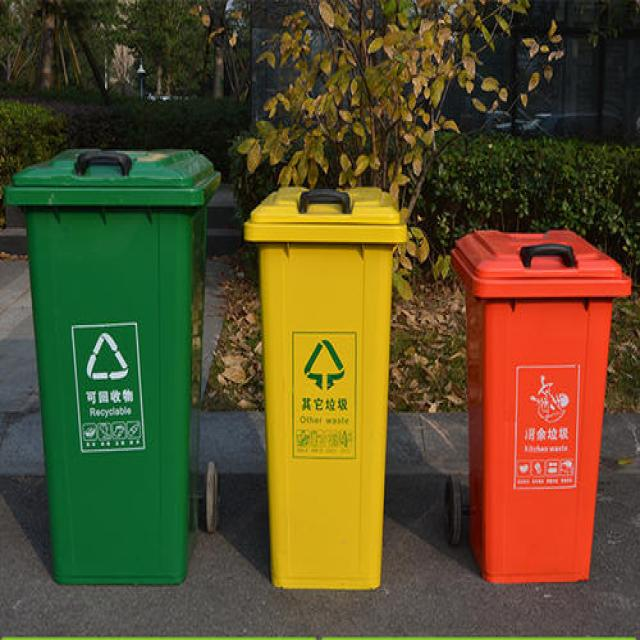garbage_bin: (4, 146, 220, 585), (243, 184, 407, 590), (448, 229, 630, 580)
